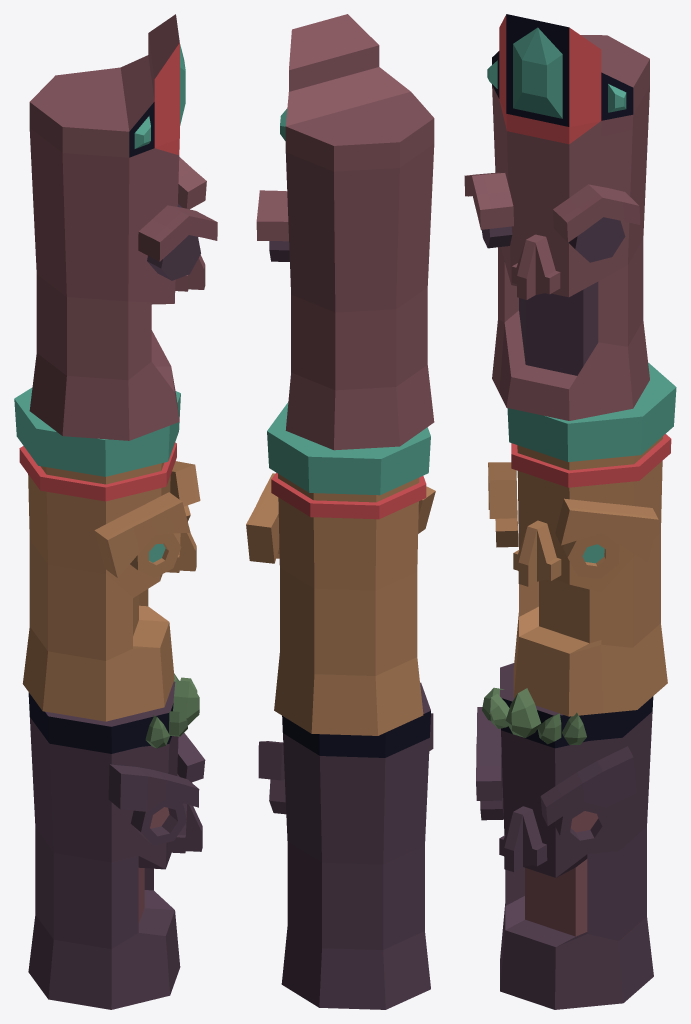
The model's file is tikiTotem4.fbx.
3 renders of one model, left to right at view 1: azimuth 30°, elevation 25°; view 2: azimuth 150°, elevation 25°; view 3: azimuth 270°, elevation 25°, orthographic. The views are drawn at different scales.
Visible parts, largest first — view 1: totem; view 2: totem; view 3: totem.
Boxes of the visible parts, bbox=[...] form: totem: bbox=[14, 14, 217, 1009]; totem: bbox=[246, 14, 435, 1009]; totem: bbox=[464, 14, 676, 1009].
Size of the model in its own units: 274 by 1456 by 284.
